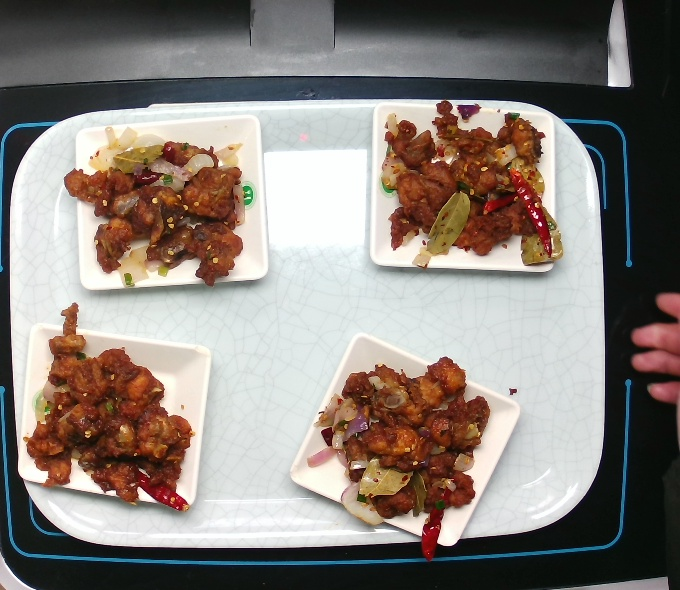wcq-LaZiJiKuai: (282, 342, 483, 562), (367, 89, 583, 280), (61, 127, 269, 307), (27, 298, 197, 511)
